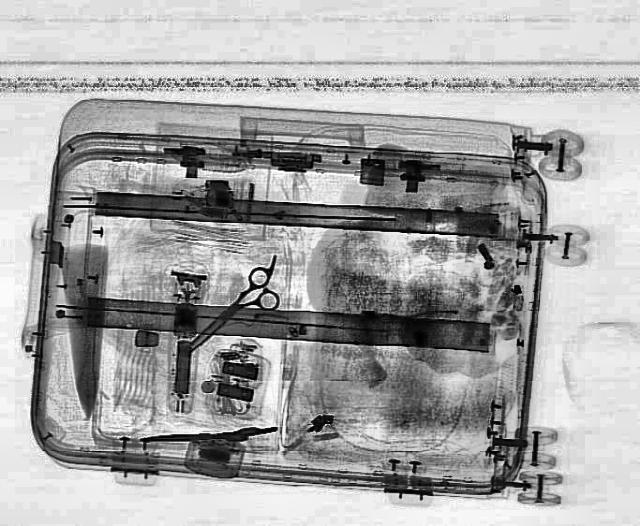Scissors: (166, 262, 298, 364)
